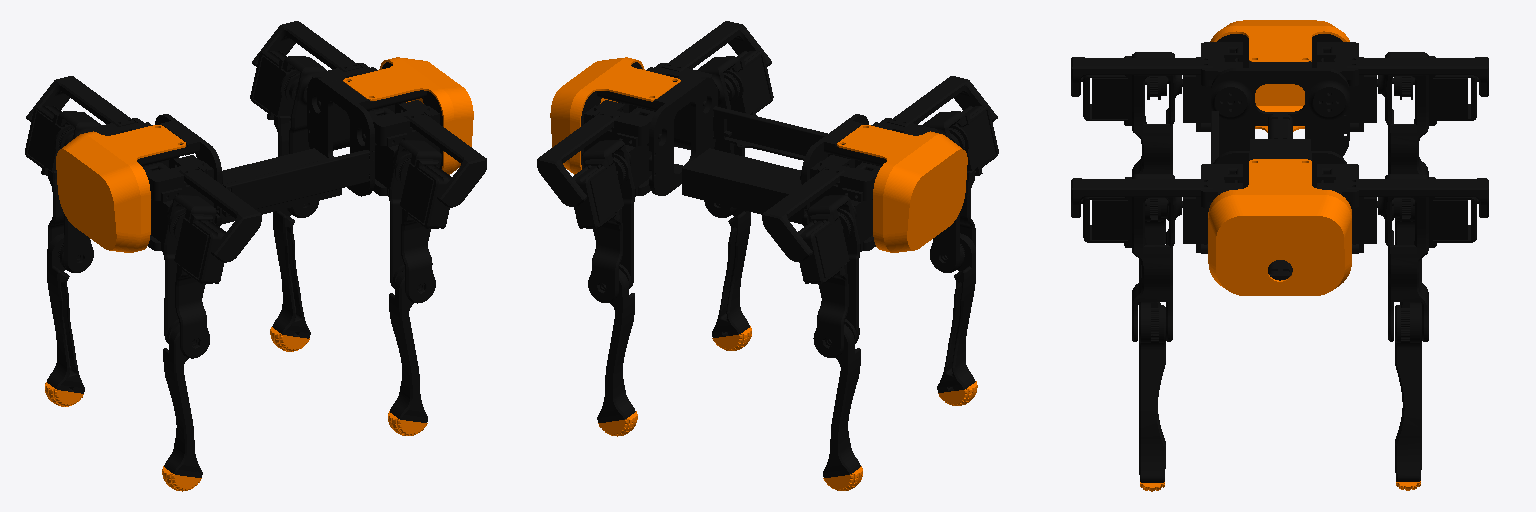
--- What the picture shows (computed from the rendered views, not written in the file) ---
Views: 3 orthographic renders of the robot side by side, from view 1: azimuth 30°, elevation 25°; view 2: azimuth 150°, elevation 25°; view 3: azimuth 270°, elevation 25°.
Robot: spot — 24 links, 23 joints (12 revolute, 11 fixed); root link base_link; default pose: all joints at 0.
Visible links, largest first — view 1: back, front_right_upper_leg, back_right_upper_leg, front_right_hip, back_right_hip, front_left_upper_leg, front_bracket, front, back_left_upper_leg, chassis_right, front_left_hip, back_left_lower_leg (+6 smaller); view 2: back, front_left_upper_leg, back_left_upper_leg, front_bracket, front_left_hip, battery, back_left_hip, front, back_right_upper_leg, front_right_upper_leg, chassis_right, front_right_hip (+6 smaller); view 3: front, back_bracket, front_right_upper_leg, front_left_upper_leg, back_right_upper_leg, back_left_upper_leg, back_right_hip, back_left_hip, front_right_hip, front_left_hip, back, front_left_lower_leg (+5 smaller).
Boxes of the visible links, <box> form: back: <box>56,125,185,252</box>; front_right_upper_leg: <box>389,140,451,303</box>; back_right_upper_leg: <box>163,195,225,358</box>; front_right_hip: <box>362,100,486,207</box>; back_right_hip: <box>143,155,261,262</box>; front_left_upper_leg: <box>250,51,326,217</box>; front_bracket: <box>308,62,442,196</box>; front: <box>343,57,473,174</box>; back_left_upper_leg: <box>25,106,101,272</box>; chassis_right: <box>222,150,374,216</box>; front_left_hip: <box>252,21,394,150</box>; back_left_lower_leg: <box>47,233,84,393</box>; back: <box>837,125,967,252</box>; front_left_upper_leg: <box>573,140,634,302</box>; back_left_upper_leg: <box>798,195,859,357</box>; front_bracket: <box>581,62,715,195</box>; front_left_hip: <box>537,100,661,206</box>; battery: <box>682,148,802,224</box>; back_left_hip: <box>762,155,880,261</box>; front: <box>550,57,680,174</box>; back_right_upper_leg: <box>922,106,998,272</box>; front_right_upper_leg: <box>697,51,773,217</box>; chassis_right: <box>713,106,844,160</box>; front_right_hip: <box>629,21,771,149</box>; front: <box>1208,159,1351,295</box>; back_bracket: <box>1211,34,1349,156</box>; front_right_upper_leg: <box>1081,174,1181,341</box>; front_left_upper_leg: <box>1378,174,1478,341</box>; back_right_upper_leg: <box>1081,52,1181,220</box>; back_left_upper_leg: <box>1378,52,1478,220</box>; back_right_hip: <box>1071,42,1242,131</box>; back_left_hip: <box>1317,42,1488,131</box>; front_right_hip: <box>1071,164,1242,253</box>; front_left_hip: <box>1317,164,1488,253</box>; back: <box>1210,20,1349,132</box>; front_left_lower_leg: <box>1395,303,1421,481</box>.
Bounding box of the posed robot: 0.3666 × 0.3316 × 0.2907 m (x, y, z).
22 mesh visuals loaded from 16 distinct referenced files (14 binary STL); not drawn: 2 (reference not matched to a file when rendering).

The robot description file, URDF, robot "spot":
<?xml version="1.0" encoding="utf-8"?>
<!-- =================================================================================== -->
<!-- |    This document was autogenerated by xacro from spot.urdf.xacro                | -->
<!-- |    EDITING THIS FILE BY HAND IS NOT RECOMMENDED                                 | -->
<!-- =================================================================================== -->
<robot name="spot" xmlns:xacro="http://www.ros.org/wiki/xacro">
  <material name="orange">
    <color rgba="1.0 0.5 0.0 1"/>
  </material>
  <material name="black">
    <color rgba="0.1 0.1 0.1 1"/>
  </material>
  <material name="grey">
    <color rgba="0.6 0.6 0.6 1"/>
  </material>
  <!-- Left Leg: prefix is front or rear -->
  <!--   <xacro:macro name="LeftLeg" params="prefix reflect">
    <link name="${prefix}_Left_Leg">
        <visual>
            <geometry>
                <box size="${leglen} 0.1 0.2"/>
            </geometry>
            <origin xyz="0 0 -${leglen/2}" rpy="0 ${pi/2} 0"/>
            <material name="white"/>
        </visual>
        <collision>
            <geometry>
                <box size="${leglen} 0.1 0.2"/>
            </geometry>
            <origin xyz="0 0 -${leglen/2}" rpy="0 ${pi/2} 0"/>
        </collision>
        <xacro:default_inertial mass="10"/>
    </link>

    <joint name="base_to_${prefix}_leg" type="fixed">
        <parent link="base_link"/>
        <child link="${prefix}_leg"/>
        <origin xyz="0 ${reflect*(width+.02)} 0.25" />
    </joint>
</xacro:macro> -->
  <!-- Robot description -->
  <!-- STATIC Links -->
  <link name="base_link">
    <visual>
      <origin rpy="0 0 1.57079632679" xyz="-0.16 0.035 -0.045"/>
      <geometry>
        <mesh filename="stl/OpenQuadruped/MAINBODY.stl" scale="1 1 1"/>
      </geometry>
      <material name="orange"/>
    </visual>
    <collision>
      <origin rpy="0 0 1.57079632679" xyz="0 0 0"/>
      <geometry>
        <box size="0.114 0.2 0.1"/>
      </geometry>
    </collision>
    <inertial>
      <mass value="0.6"/>
      <origin rpy="0 0 0" xyz="0 0 0"/>
      <!-- Inertial Axes -->
      <inertia ixx="0.0025" ixy="0" ixz="0" iyx="0" iyy="0.0011498" iyz="0" izx="0" izy="0" izz="0.0026498"/>
    </inertial>
  </link>
  <!-- m to mm -->
  <link name="battery">
    <visual>
      <origin rpy="0 0 1.57079632679" xyz="-0.15 0.035 -0.022"/>
      <geometry>
        <mesh filename="stl/OpenQuadruped/Battery.stl" scale="1 1 1"/>
      </geometry>
      <material name="black"/>
    </visual>
    <collision>
      <origin rpy="0 0 1.57079632679" xyz="0 0 0"/>
      <geometry>
        <box size="0.048 0.145 0.026"/>
      </geometry>
    </collision>
    <inertial>
      <mass value="0.4"/>
      <origin rpy="0 0 0" xyz="0 0 0"/>
      <!-- Inertial Axes -->
      <inertia ixx="0.000723366666667" ixy="0" ixz="0" iyx="0" iyy="9.93333333333e-05" iyz="0" izx="0" izy="0" izz="0.000777633333333"/>
    </inertial>
  </link>
  <!-- m to mm -->
  <link name="chassis_left">
    <visual>
      <origin rpy="0 1.57079632679 -1.57079632679" xyz="0.016 0.003 0"/>
      <geometry>
        <mesh filename="stl/OpenQuadruped/Chassis_Left_Side.stl" scale="1 1 1"/>
      </geometry>
      <material name="black"/>
    </visual>
    <collision>
      <origin rpy="0 1.57079632679 -1.57079632679" xyz="0 0 0"/>
      <geometry>
        <box size="0.06 0.15 0.006"/>
      </geometry>
    </collision>
    <inertial>
      <mass value="0.01"/>
      <origin rpy="0 0 0" xyz="0 0 0"/>
      <!-- Inertial Axes -->
      <inertia ixx="1.878e-05" ixy="0" ixz="0" iyx="0" iyy="3.03e-06" iyz="0" izx="0" izy="0" izz="2.175e-05"/>
    </inertial>
  </link>
  <!-- m to mm -->
  <link name="chassis_right">
    <visual>
      <origin rpy="0 1.57079632679 1.57079632679" xyz="-0.016 -0.003 0"/>
      <geometry>
        <mesh filename="stl/OpenQuadruped/Chassis_Right_Side.stl" scale="1 1 1"/>
      </geometry>
      <material name="black"/>
    </visual>
    <collision>
      <origin rpy="0 1.57079632679 1.57079632679" xyz="0 0 0"/>
      <geometry>
        <box size="0.06 0.15 0.006"/>
      </geometry>
    </collision>
    <inertial>
      <mass value="0.01"/>
      <origin rpy="0 0 0" xyz="0 0 0"/>
      <!-- Inertial Axes -->
      <inertia ixx="1.878e-05" ixy="0" ixz="0" iyx="0" iyy="3.03e-06" iyz="0" izx="0" izy="0" izz="2.175e-05"/>
    </inertial>
  </link>
  <!-- m to mm -->
  <link name="front">
    <visual>
      <origin rpy="0 0 1.57079632679" xyz="-0.16 0.035 -0.045"/>
      <geometry>
        <mesh filename="stl/OpenQuadruped/Front.stl" scale="1 1 1"/>
      </geometry>
      <material name="orange"/>
    </visual>
    <collision>
      <origin rpy="0 0 1.57079632679" xyz="0.16 0 0.006"/>
      <geometry>
        <box size="0.114 0.045 0.085"/>
      </geometry>
    </collision>
    <inertial>
      <mass value="0.1"/>
      <origin rpy="0 0 0" xyz="0 0 0"/>
      <!-- Inertial Axes -->
      <inertia ixx="7.70833333333e-05" ixy="0" ixz="0" iyx="0" iyy="0.000168508333333" iyz="0" izx="0" izy="0" izz="0.000125175"/>
    </inertial>
  </link>
  <!-- m to mm -->
  <link name="back">
    <visual>
      <origin rpy="0 0 1.57079632679" xyz="-0.16 0.035 -0.045"/>
      <geometry>
        <mesh filename="stl/OpenQuadruped/Back.stl" scale="1 1 1"/>
      </geometry>
      <material name="orange"/>
    </visual>
    <collision>
      <origin rpy="0 0 1.57079632679" xyz="-0.16 0 0.006"/>
      <geometry>
        <box size="0.114 0.075 0.085"/>
      </geometry>
    </collision>
    <inertial>
      <mass value="0.1"/>
      <origin rpy="0 0 0" xyz="0 0 0"/>
      <!-- Inertial Axes -->
      <inertia ixx="0.000107083333333" ixy="0" ixz="0" iyx="0" iyy="0.000168508333333" iyz="0" izx="0" izy="0" izz="0.000155175"/>
    </inertial>
  </link>
  <!-- m to mm -->
  <link name="front_bracket">
    <visual>
      <origin rpy="0 0 1.57079632679" xyz="-0.16 0.035 -0.045"/>
      <geometry>
        <mesh filename="stl/OpenQuadruped/Front_Bracket.stl" scale="1 1 1"/>
      </geometry>
      <material name="black"/>
    </visual>
    <collision>
      <origin rpy="0 0 1.57079632679" xyz="0.1 0 0"/>
      <geometry>
        <box size="0.025 0.075 0.085"/>
      </geometry>
    </collision>
    <inertial>
      <mass value="0.1"/>
      <origin rpy="0 0 0" xyz="0 0 0"/>
      <!-- Inertial Axes -->
      <inertia ixx="0.000107083333333" ixy="0" ixz="0" iyx="0" iyy="6.54166666667e-05" iyz="0" izx="0" izy="0" izz="5.20833333333e-05"/>
    </inertial>
  </link>
  <!-- m to mm -->
  <link name="back_bracket">
    <visual>
      <origin rpy="0 0 1.57079632679" xyz="-0.16 0.035 -0.045"/>
      <geometry>
        <mesh filename="stl/OpenQuadruped/Back_Bracket.stl" scale="1 1 1"/>
      </geometry>
      <material name="black"/>
    </visual>
    <collision>
      <origin rpy="0 0 1.57079632679" xyz="-0.1 0 0"/>
      <geometry>
        <box size="0.025 0.075 0.085"/>
      </geometry>
    </collision>
    <inertial>
      <mass value="0.1"/>
      <origin rpy="0 0 0" xyz="0 0 0"/>
      <!-- Inertial Axes -->
      <inertia ixx="0.000107083333333" ixy="0" ixz="0" iyx="0" iyy="6.54166666667e-05" iyz="0" izx="0" izy="0" izz="5.20833333333e-05"/>
    </inertial>
  </link>
  <!-- m to mm -->
  <link name="front_left_hip">
    <visual>
      <origin rpy="0 0 1.57079632679" xyz="-0.25 -0.0044 -0.067"/>
      <geometry>
        <mesh filename="stl/OpenQuadruped/LEFT_HIP.stl" scale="1 1 1"/>
      </geometry>
      <material name="black"/>
    </visual>
    <collision>
      <origin rpy="0 0 1.57079632679" xyz="0.015 0.01 -0.01"/>
      <geometry>
        <box size="0.05 0.065 0.065"/>
      </geometry>
    </collision>
    <inertial>
      <mass value="0.2"/>
      <origin rpy="0 0 0" xyz="0 0 0"/>
      <!-- Inertial Axes -->
      <inertia ixx="0.000140833333333" ixy="0" ixz="0" iyx="0" iyy="0.000112083333333" iyz="0" izx="0" izy="0" izz="0.000112083333333"/>
    </inertial>
  </link>
  <joint name="motor_front_left_hip" type="revolute">
    <axis xyz="1 0 0"/>
    <origin rpy="0 0 0" xyz="0.0915 0.0394 0.022"/>
    <parent link="front_bracket"/>
    <child link="front_left_hip"/>
    <limit effort="1000.0" lower="-1.04" upper="1.04" velocity="0.7"/>
    <joint_properties damping="0.0" friction="0.0"/>
  </joint>
  <link name="front_left_upper_leg">
    <visual>
      <origin rpy="0 0 1.57079632679" xyz="-0.252 -0.05 -0.055"/>
      <geometry>
        <mesh filename="stl/OpenQuadruped/LEFT_UPPER_LEG.stl" scale="1 1 1"/>
      </geometry>
      <material name="black"/>
    </visual>
    <collision>
      <origin rpy="0 0 1.57079632679" xyz="0 0.02 -0.05"/>
      <geometry>
        <box size="0.035 0.035 0.11"/>
      </geometry>
    </collision>
    <inertial>
      <mass value="0.13"/>
      <origin rpy="0 0 0" xyz="0 0 0"/>
      <!-- Inertial Axes -->
      <inertia ixx="0.000144354166667" ixy="0" ixz="0" iyx="0" iyy="0.000144354166667" iyz="0" izx="0" izy="0" izz="2.65416666667e-05"/>
    </inertial>
  </link>
  <joint name="motor_front_left_upper_leg" type="revolute">
    <axis xyz="0 1 0"/>
    <origin rpy="0 0 0" xyz="0.0015 0.045 -0.0087"/>
    <parent link="front_left_hip"/>
    <child link="front_left_upper_leg"/>
    <limit effort="1000.0" lower="-1.57079632679" upper="2.59" velocity="0.7"/>
    <joint_properties damping="0.0" friction="0.0"/>
  </joint>
  <link name="front_left_lower_leg">
    <visual>
      <origin rpy="0 0 1.57079632679" xyz="-0.247 -0.068 0.0535"/>
      <geometry>
        <mesh filename="stl/OpenQuadruped/LEFT_LOWER_LEG.stl" scale="1 1 1"/>
      </geometry>
      <material name="black"/>
    </visual>
    <collision>
      <origin rpy="0 0 1.57079632679" xyz="0 0 -0.06"/>
      <geometry>
        <box size="0.035 0.035 0.12"/>
      </geometry>
    </collision>
    <inertial>
      <mass value="0.05"/>
      <origin rpy="0 0 0" xyz="0 0 0"/>
      <!-- Inertial Axes -->
      <inertia ixx="6.51041666667e-05" ixy="0" ixz="0" iyx="0" iyy="6.51041666667e-05" iyz="0" izx="0" izy="0" izz="1.02083333333e-05"/>
    </inertial>
  </link>
  <joint name="motor_front_left_lower_leg" type="revolute">
    <axis xyz="0 1 0"/>
    <origin rpy="0 0 0" xyz="-0.005 0.018 -0.109"/>
    <parent link="front_left_upper_leg"/>
    <child link="front_left_lower_leg"/>
    <limit effort="1000.0" lower="-2.9" upper="1.57079632679" velocity="0.7"/>
    <joint_properties damping="0.0" friction="0.0"/>
  </joint>
  <link name="front_left_foot">
    <visual>
      <origin rpy="0 0 1.57079632679" xyz="-0.247 -0.068 0.18"/>
      <geometry>
        <mesh filename="stl/OpenQuadruped/LEFT_FOOT.stl" scale="1 1 1"/>
      </geometry>
      <material name="orange"/>
    </visual>
    <collision>
      <origin rpy="0 0 1.57079632679" xyz="-0.247 -0.068 0.18"/>
      <geometry>
        <mesh filename="stl/OpenQuadruped/LEFT_FOOT.stl" scale="1 1 1"/>
      </geometry>
      <contact_coefficients mu="10.1"/>
    </collision>
    <inertial>
      <mass value="0.005"/>
      <origin rpy="0 0 0" xyz="0 0 0"/>
      <!-- Inertial Axes -->
      <inertia ixx="3.52083333333e-06" ixy="0" ixz="0" iyx="0" iyy="2.80208333333e-06" iyz="0" izx="0" izy="0" izz="2.80208333333e-06"/>
    </inertial>
  </link>
  <joint name="front_left_leg_foot" type="fixed">
    <origin rpy="0 0 0" xyz="0 0 -0.1265"/>
    <parent link="front_left_lower_leg"/>
    <child link="front_left_foot"/>
  </joint>
  <link name="back_left_hip">
    <visual>
      <origin rpy="0 0 1.57079632679" xyz="-0.25 -0.0044 -0.067"/>
      <geometry>
        <mesh filename="stl/OpenQuadruped/LEFT_HIP.stl" scale="1 1 1"/>
      </geometry>
      <material name="black"/>
    </visual>
    <collision>
      <origin rpy="0 0 1.57079632679" xyz="0.015 0.01 -0.01"/>
      <geometry>
        <box size="0.05 0.065 0.065"/>
      </geometry>
    </collision>
    <inertial>
      <mass value="0.2"/>
      <origin rpy="0 0 0" xyz="0 0 0"/>
      <!-- Inertial Axes -->
      <inertia ixx="0.000140833333333" ixy="0" ixz="0" iyx="0" iyy="0.000112083333333" iyz="0" izx="0" izy="0" izz="0.000112083333333"/>
    </inertial>
  </link>
  <joint name="motor_back_left_hip" type="revolute">
    <axis xyz="1 0 0"/>
    <origin rpy="0 0 0" xyz="-0.1365 0.0394 0.022"/>
    <parent link="back_bracket"/>
    <child link="back_left_hip"/>
    <limit effort="1000.0" lower="-1.04" upper="1.04" velocity="0.7"/>
    <joint_properties damping="0.0" friction="0.0"/>
  </joint>
  <link name="back_left_upper_leg">
    <visual>
      <origin rpy="0 0 1.57079632679" xyz="-0.252 -0.05 -0.055"/>
      <geometry>
        <mesh filename="stl/OpenQuadruped/LEFT_UPPER_LEG.stl" scale="1 1 1"/>
      </geometry>
      <material name="black"/>
    </visual>
    <collision>
      <origin rpy="0 0 1.57079632679" xyz="0 0.02 -0.05"/>
      <geometry>
        <box size="0.035 0.035 0.11"/>
      </geometry>
    </collision>
    <inertial>
      <mass value="0.13"/>
      <origin rpy="0 0 0" xyz="0 0 0"/>
      <!-- Inertial Axes -->
      <inertia ixx="0.000144354166667" ixy="0" ixz="0" iyx="0" iyy="0.000144354166667" iyz="0" izx="0" izy="0" izz="2.65416666667e-05"/>
    </inertial>
  </link>
  <joint name="motor_back_left_upper_leg" type="revolute">
    <axis xyz="0 1 0"/>
    <origin rpy="0 0 0" xyz="0.0015 0.045 -0.0087"/>
    <parent link="back_left_hip"/>
    <child link="back_left_upper_leg"/>
    <limit effort="1000.0" lower="-1.57079632679" upper="2.59" velocity="0.7"/>
    <joint_properties damping="0.0" friction="0.0"/>
  </joint>
  <link name="back_left_lower_leg">
    <visual>
      <origin rpy="0 0 1.57079632679" xyz="-0.247 -0.068 0.0535"/>
      <geometry>
        <mesh filename="stl/OpenQuadruped/LEFT_LOWER_LEG.stl" scale="1 1 1"/>
      </geometry>
      <material name="black"/>
    </visual>
    <collision>
      <origin rpy="0 0 1.57079632679" xyz="0 0 -0.06"/>
      <geometry>
        <box size="0.035 0.035 0.12"/>
      </geometry>
    </collision>
    <inertial>
      <mass value="0.05"/>
      <origin rpy="0 0 0" xyz="0 0 0"/>
      <!-- Inertial Axes -->
      <inertia ixx="6.51041666667e-05" ixy="0" ixz="0" iyx="0" iyy="6.51041666667e-05" iyz="0" izx="0" izy="0" izz="1.02083333333e-05"/>
    </inertial>
  </link>
  <joint name="motor_back_left_lower_leg" type="revolute">
    <axis xyz="0 1 0"/>
    <origin rpy="0 0 0" xyz="-0.005 0.018 -0.109"/>
    <parent link="back_left_upper_leg"/>
    <child link="back_left_lower_leg"/>
    <limit effort="1000.0" lower="-2.9" upper="1.57079632679" velocity="0.7"/>
    <joint_properties damping="0.0" friction="0.0"/>
  </joint>
  <link name="back_left_foot">
    <visual>
      <origin rpy="0 0 1.57079632679" xyz="-0.247 -0.068 0.18"/>
      <geometry>
        <mesh filename="stl/OpenQuadruped/LEFT_FOOT.stl" scale="1 1 1"/>
      </geometry>
      <material name="orange"/>
    </visual>
    <collision>
      <origin rpy="0 0 1.57079632679" xyz="-0.247 -0.068 0.18"/>
      <geometry>
        <mesh filename="stl/OpenQuadruped/LEFT_FOOT.stl" scale="1 1 1"/>
      </geometry>
      <contact_coefficients mu="10.1"/>
    </collision>
    <inertial>
      <mass value="0.005"/>
      <origin rpy="0 0 0" xyz="0 0 0"/>
      <!-- Inertial Axes -->
      <inertia ixx="3.52083333333e-06" ixy="0" ixz="0" iyx="0" iyy="2.80208333333e-06" iyz="0" izx="0" izy="0" izz="2.80208333333e-06"/>
    </inertial>
  </link>
  <joint name="back_left_leg_foot" type="fixed">
    <origin rpy="0 0 0" xyz="0 0 -0.1265"/>
    <parent link="back_left_lower_leg"/>
    <child link="back_left_foot"/>
  </joint>
  <link name="front_right_hip">
    <visual>
      <origin rpy="0 0 1.57079632679" xyz="-0.25 0.074 -0.067"/>
      <geometry>
        <mesh filename="stl/OpenQuadruped/RIGHT_HIP.stl" scale="1 1 1"/>
      </geometry>
      <material name="black"/>
    </visual>
    <collision>
      <origin rpy="0 0 1.57079632679" xyz="0.015 -0.01 -0.01"/>
      <geometry>
        <box size="0.05 0.065 0.065"/>
      </geometry>
    </collision>
    <inertial>
      <mass value="0.2"/>
      <origin rpy="0 0 0" xyz="0 0 0"/>
      <!-- Inertial Axes -->
      <inertia ixx="0.000140833333333" ixy="0" ixz="0" iyx="0" iyy="0.000112083333333" iyz="0" izx="0" izy="0" izz="0.000112083333333"/>
    </inertial>
  </link>
  <joint name="motor_front_right_hip" type="revolute">
    <axis xyz="1 0 0"/>
    <origin rpy="0 0 0" xyz="0.0915 -0.0394 0.022"/>
    <parent link="front_bracket"/>
    <child link="front_right_hip"/>
    <limit effort="1000.0" lower="-1.04" upper="1.04" velocity="0.7"/>
    <joint_properties damping="0.0" friction="0.0"/>
  </joint>
  <link name="front_right_upper_leg">
    <visual>
      <origin rpy="0 0 1.57079632679" xyz="-0.252 0.12 -0.055"/>
      <geometry>
        <mesh filename="stl/OpenQuadruped/RIGHT_UPPER_LEG.stl" scale="1 1 1"/>
      </geometry>
      <material name="black"/>
    </visual>
    <collision>
      <origin rpy="0 0 1.57079632679" xyz="0 -0.02 -0.05"/>
      <geometry>
        <box size="0.035 0.035 0.11"/>
      </geometry>
    </collision>
    <inertial>
      <mass value="0.13"/>
      <origin rpy="0 0 0" xyz="0 0 0"/>
      <!-- Inertial Axes -->
      <inertia ixx="0.000144354166667" ixy="0" ixz="0" iyx="0" iyy="0.000144354166667" iyz="0" izx="0" izy="0" izz="2.65416666667e-05"/>
    </inertial>
  </link>
  <joint name="motor_front_right_upper_leg" type="revolute">
    <axis xyz="0 1 0"/>
    <origin rpy="0 0 0" xyz="0.0015 -0.045 -0.0087"/>
    <parent link="front_right_hip"/>
    <child link="front_right_upper_leg"/>
    <limit effort="1000.0" lower="-1.57079632679" upper="2.59" velocity="0.7"/>
    <joint_properties damping="0.0" friction="0.0"/>
  </joint>
  <link name="front_right_lower_leg">
    <visual>
      <origin rpy="0 0 1.57079632679" xyz="-0.247 0.138 0.0535"/>
      <geometry>
        <mesh filename="stl/OpenQuadruped/RIGHT_LOWER_LEG.stl" scale="1 1 1"/>
      </geometry>
      <material name="black"/>
    </visual>
    <collision>
      <origin rpy="0 0 1.57079632679" xyz="0 0 -0.06"/>
      <geometry>
        <box size="0.035 0.035 0.12"/>
      </geometry>
    </collision>
    <inertial>
      <mass value="0.05"/>
      <origin rpy="0 0 0" xyz="0 0 0"/>
      <!-- Inertial Axes -->
      <inertia ixx="6.51041666667e-05" ixy="0" ixz="0" iyx="0" iyy="6.51041666667e-05" iyz="0" izx="0" izy="0" izz="1.02083333333e-05"/>
    </inertial>
  </link>
  <joint name="motor_front_right_lower_leg" type="revolute">
    <axis xyz="0 1 0"/>
    <origin rpy="0 0 0" xyz="-0.005 -0.018 -0.109"/>
    <parent link="front_right_upper_leg"/>
    <child link="front_right_lower_leg"/>
    <limit effort="1000.0" lower="-2.9" upper="1.57079632679" velocity="0.7"/>
    <joint_properties damping="0.0" friction="0.0"/>
  </joint>
  <link name="front_right_foot">
    <visual>
      <origin rpy="0 0 1.57079632679" xyz="-0.247 0.138 0.18"/>
      <geometry>
        <mesh filename="stl/OpenQuadruped/RIGHT_FOOT.stl" scale="1 1 1"/>
      </geometry>
      <material name="orange"/>
    </visual>
    <collision>
      <origin rpy="0 0 1.57079632679" xyz="-0.247 0.138 0.18"/>
      <geometry>
        <mesh filename="stl/OpenQuadruped/RIGHT_FOOT.stl" scale="1 1 1"/>
      </geometry>
      <contact_coefficients mu="10.1"/>
    </collision>
    <inertial>
      <mass value="0.005"/>
      <origin rpy="0 0 0" xyz="0 0 0"/>
      <!-- Inertial Axes -->
      <inertia ixx="3.52083333333e-06" ixy="0" ixz="0" iyx="0" iyy="2.80208333333e-06" iyz="0" izx="0" izy="0" izz="2.80208333333e-06"/>
    </inertial>
  </link>
  <joint name="front_right_leg_foot" type="fixed">
    <origin rpy="0 0 0" xyz="0 0 -0.1265"/>
    <parent link="front_right_lower_leg"/>
    <child link="front_right_foot"/>
  </joint>
  <link name="back_right_hip">
    <visual>
      <origin rpy="0 0 1.57079632679" xyz="-0.25 0.074 -0.067"/>
      <geometry>
        <mesh filename="stl/OpenQuadruped/RIGHT_HIP.stl" scale="1 1 1"/>
      </geometry>
      <material name="black"/>
    </visual>
    <collision>
      <origin rpy="0 0 1.57079632679" xyz="0.015 -0.01 -0.01"/>
      <geometry>
        <box size="0.05 0.065 0.065"/>
      </geometry>
    </collision>
    <inertial>
      <mass value="0.2"/>
      <origin rpy="0 0 0" xyz="0 0 0"/>
      <!-- Inertial Axes -->
      <inertia ixx="0.000140833333333" ixy="0" ixz="0" iyx="0" iyy="0.000112083333333" iyz="0" izx="0" izy="0" izz="0.000112083333333"/>
    </inertial>
  </link>
  <joint name="motor_back_right_hip" type="revolute">
    <axis xyz="1 0 0"/>
    <origin rpy="0 0 0" xyz="-0.1365 -0.0394 0.022"/>
    <parent link="back_bracket"/>
    <child link="back_right_hip"/>
    <limit effort="1000.0" lower="-1.04" upper="1.04" velocity="0.7"/>
    <joint_properties damping="0.0" friction="0.0"/>
  </joint>
  <link name="back_right_upper_leg">
    <visual>
      <origin rpy="0 0 1.57079632679" xyz="-0.252 0.12 -0.055"/>
      <geometry>
        <mesh filename="stl/OpenQuadruped/RIGHT_UPPER_LEG.stl" scale="1 1 1"/>
      </geometry>
      <material name="black"/>
    </visual>
    <collision>
      <origin rpy="0 0 1.57079632679" xyz="0 -0.02 -0.05"/>
      <geometry>
        <box size="0.035 0.035 0.11"/>
      </geometry>
    </collision>
    <inertial>
      <mass value="0.13"/>
      <origin rpy="0 0 0" xyz="0 0 0"/>
      <!-- Inertial Axes -->
      <inertia ixx="0.000144354166667" ixy="0" ixz="0" iyx="0" iyy="0.000144354166667" iyz="0" izx="0" izy="0" izz="2.65416666667e-05"/>
    </inertial>
  </link>
  <joint name="motor_back_right_upper_leg" type="revolute">
    <axis xyz="0 1 0"/>
    <origin rpy="0 0 0" xyz="0.0015 -0.045 -0.0087"/>
    <parent link="back_right_hip"/>
    <child link="back_right_upper_leg"/>
    <limit effort="1000.0" lower="-1.57079632679" upper="2.59" velocity="0.7"/>
    <joint_properties damping="0.0" friction="0.0"/>
  </joint>
  <link name="back_right_lower_leg">
    <visual>
      <origin rpy="0 0 1.57079632679" xyz="-0.247 0.138 0.0535"/>
      <geometry>
        <mesh filename="stl/OpenQuadruped/RIGHT_LOWER_LEG.stl" scale="1 1 1"/>
      </geometry>
      <material name="black"/>
    </visual>
    <collision>
      <origin rpy="0 0 1.57079632679" xyz="0 0 -0.06"/>
      <geometry>
        <box size="0.035 0.035 0.12"/>
      </geometry>
    </collision>
    <inertial>
      <mass value="0.05"/>
      <origin rpy="0 0 0" xyz="0 0 0"/>
      <!-- Inertial Axes -->
      <inertia ixx="6.51041666667e-05" ixy="0" ixz="0" iyx="0" iyy="6.51041666667e-05" iyz="0" izx="0" izy="0" izz="1.02083333333e-05"/>
    </inertial>
  </link>
  <joint name="motor_back_right_lower_leg" type="revolute">
    <axis xyz="0 1 0"/>
    <origin rpy="0 0 0" xyz="-0.005 -0.018 -0.109"/>
    <parent link="back_right_upper_leg"/>
    <child link="back_right_lower_leg"/>
    <limit effort="1000.0" lower="-2.9" upper="1.57079632679" velocity="0.7"/>
    <joint_properties damping="0.0" friction="0.0"/>
  </joint>
  <link name="back_right_foot">
    <visual>
      <origin rpy="0 0 1.57079632679" xyz="-0.247 0.138 0.18"/>
      <geometry>
        <mesh filename="stl/OpenQuadruped/RIGHT_FOOT.stl" scale="1 1 1"/>
      </geometry>
      <material name="orange"/>
    </visual>
    <collision>
      <origin rpy="0 0 1.57079632679" xyz="-0.247 0.138 0.18"/>
      <geometry>
        <mesh filename="stl/OpenQuadruped/RIGHT_FOOT.stl" scale="1 1 1"/>
      </geometry>
      <contact_coefficients mu="10.1"/>
    </collision>
    <inertial>
      <mass value="0.005"/>
      <origin rpy="0 0 0" xyz="0 0 0"/>
      <!-- Inertial Axes -->
      <inertia ixx="3.52083333333e-06" ixy="0" ixz="0" iyx="0" iyy="2.80208333333e-06" iyz="0" izx="0" izy="0" izz="2.80208333333e-06"/>
    </inertial>
  </link>
  <joint name="back_right_leg_foot" type="fixed">
    <origin rpy="0 0 0" xyz="0 0 -0.1265"/>
    <parent link="back_right_lower_leg"/>
    <child link="back_right_foot"/>
  </joint>
  <joint name="base_battery" type="fixed">
    <origin rpy="0 0 0" xyz="-0.01 0 -0.0225"/>
    <parent link="base_link"/>
    <child link="battery"/>
  </joint>
  <joint name="base_left" type="fixed">
    <origin rpy="0 0 0" xyz="0.00 0.052 0"/>
    <parent link="base_link"/>
    <child link="chassis_left"/>
  </joint>
  <joint name="base_right" type="fixed">
    <origin rpy="0 0 0" xyz="0.00 -0.052 0"/>
    <parent link="base_link"/>
    <child link="chassis_right"/>
  </joint>
  <joint name="base_front" type="fixed">
    <origin rpy="0 0 0" xyz="0 0 0"/>
    <parent link="base_link"/>
    <child link="front"/>
  </joint>
  <joint name="base_back" type="fixed">
    <origin rpy="0 0 0" xyz="0 0 0"/>
    <parent link="base_link"/>
    <child link="back"/>
  </joint>
  <joint name="base_front_bracket" type="fixed">
    <origin rpy="0 0 0" xyz="0 0 0"/>
    <parent link="base_link"/>
    <child link="front_bracket"/>
  </joint>
  <joint name="base_back_bracket" type="fixed">
    <origin rpy="0 0 0" xyz="0 0 0"/>
    <parent link="base_link"/>
    <child link="back_bracket"/>
  </joint>
</robot>
